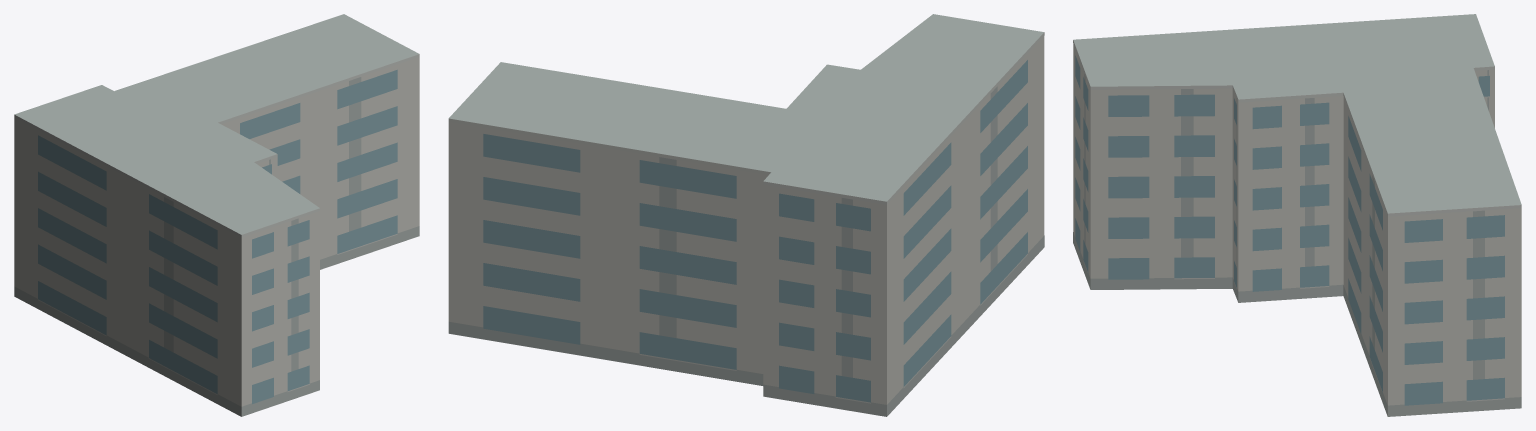
Rendered from survey-upis-32848384.glb.
3 renders of one model, left to right at view 1: azimuth 30°, elevation 25°; view 2: azimuth 150°, elevation 25°; view 3: azimuth 270°, elevation 25°, orthographic. The views are drawn at different scales.
Parts seen in each view (by area): view 1: survey-upis-32848384.tmp; view 2: survey-upis-32848384.tmp; view 3: survey-upis-32848384.tmp.
Part boxes in pixels (left/top/right/bottom): survey-upis-32848384.tmp: left=14, top=14, right=419, bottom=416; survey-upis-32848384.tmp: left=448, top=14, right=1044, bottom=416; survey-upis-32848384.tmp: left=1073, top=14, right=1521, bottom=416.
Bounding box in the file's own units: 32.11 × 15.25 × 30.5.
